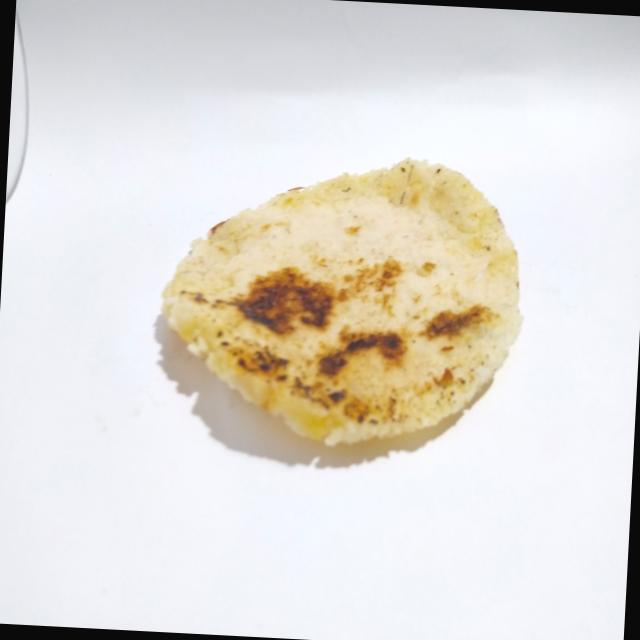Mbeju: (138, 128, 538, 476)
